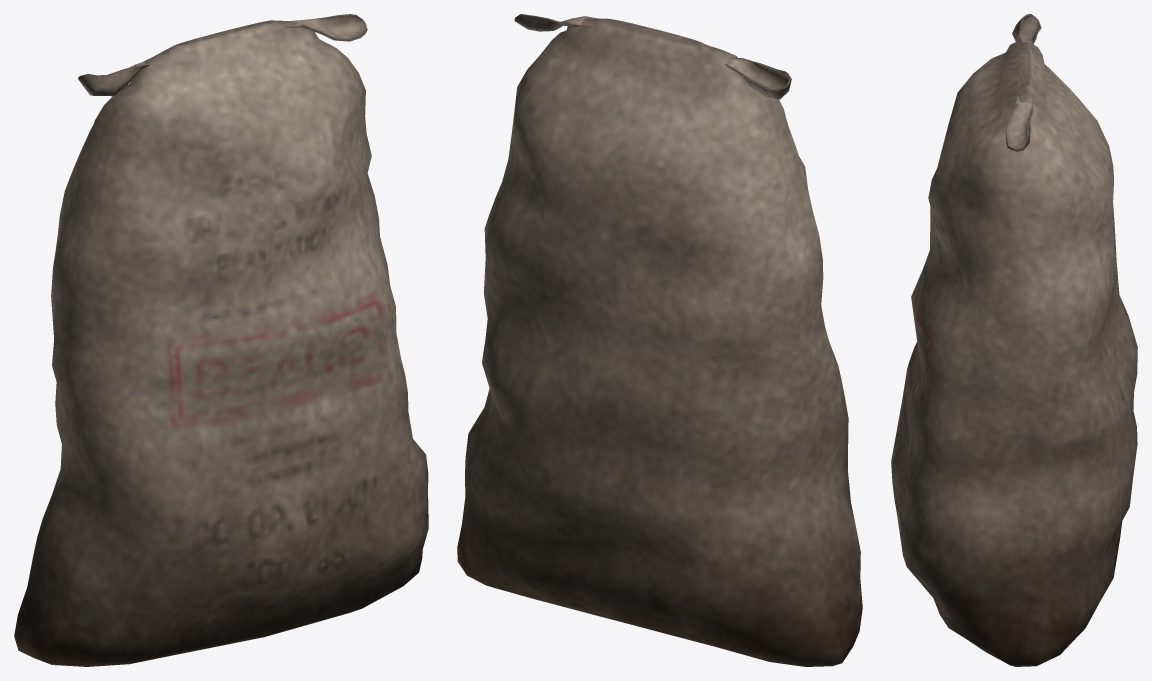
File: SM_FAR_CornSack_Medium_01.fbx
The picture shows the model from 3 angles, left to right: view 1: azimuth 30°, elevation 25°; view 2: azimuth 150°, elevation 25°; view 3: azimuth 270°, elevation 25°; orthographic projection. The views are drawn at different scales.
Parts seen in each view (by area): view 1: SM_FAR_CornSack_Medium_01.mo; view 2: SM_FAR_CornSack_Medium_01.mo; view 3: SM_FAR_CornSack_Medium_01.mo.
Boxes of the visible parts, left/top/right/bottom form: SM_FAR_CornSack_Medium_01.mo: left=14, top=14, right=428, bottom=666; SM_FAR_CornSack_Medium_01.mo: left=457, top=14, right=862, bottom=666; SM_FAR_CornSack_Medium_01.mo: left=891, top=14, right=1137, bottom=666.
Bounding box in the file's own units: 42.85 × 62.55 × 26.26.
